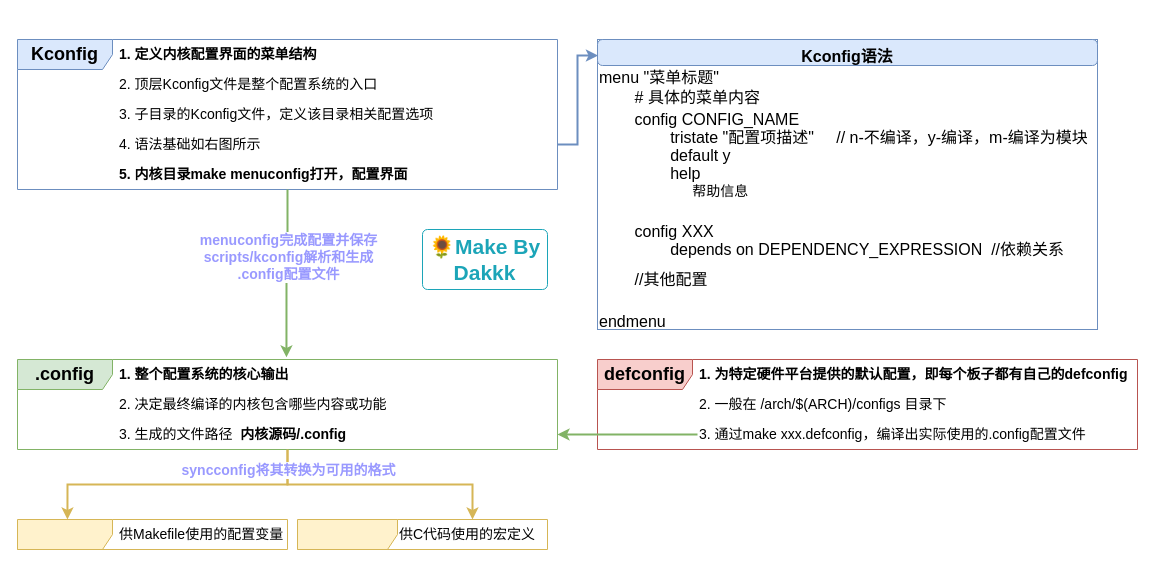
Image size: 1155x567. Some labels were removed from this diagram. The box of each missing label's shape, as (x1, y1, x2, y2) in pixels:
auto.conf: (16, 518, 288, 550)
autoconf.h: (296, 518, 548, 550)
